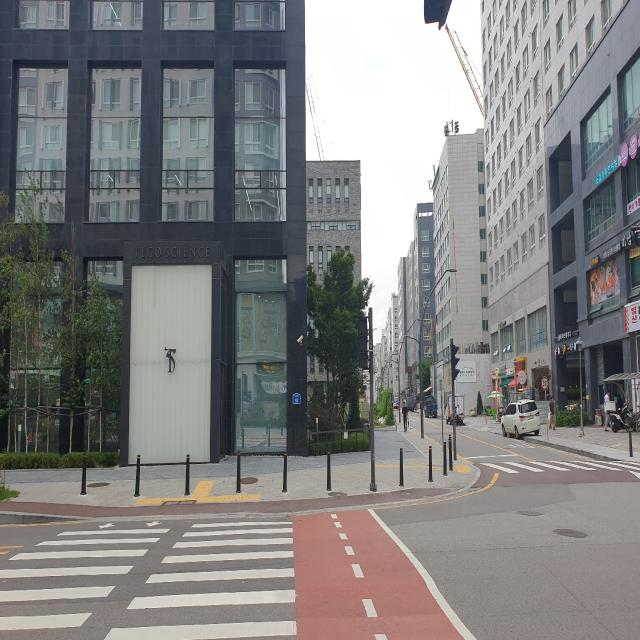횡단보도: (0, 517, 298, 640), (477, 457, 616, 473)
